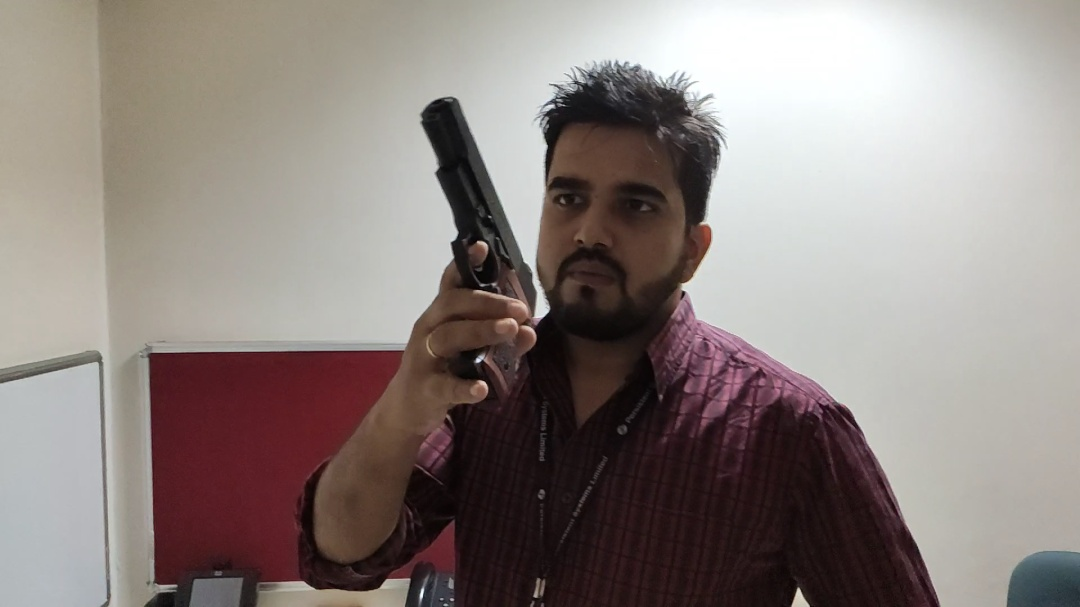gun: (411, 91, 542, 410)
